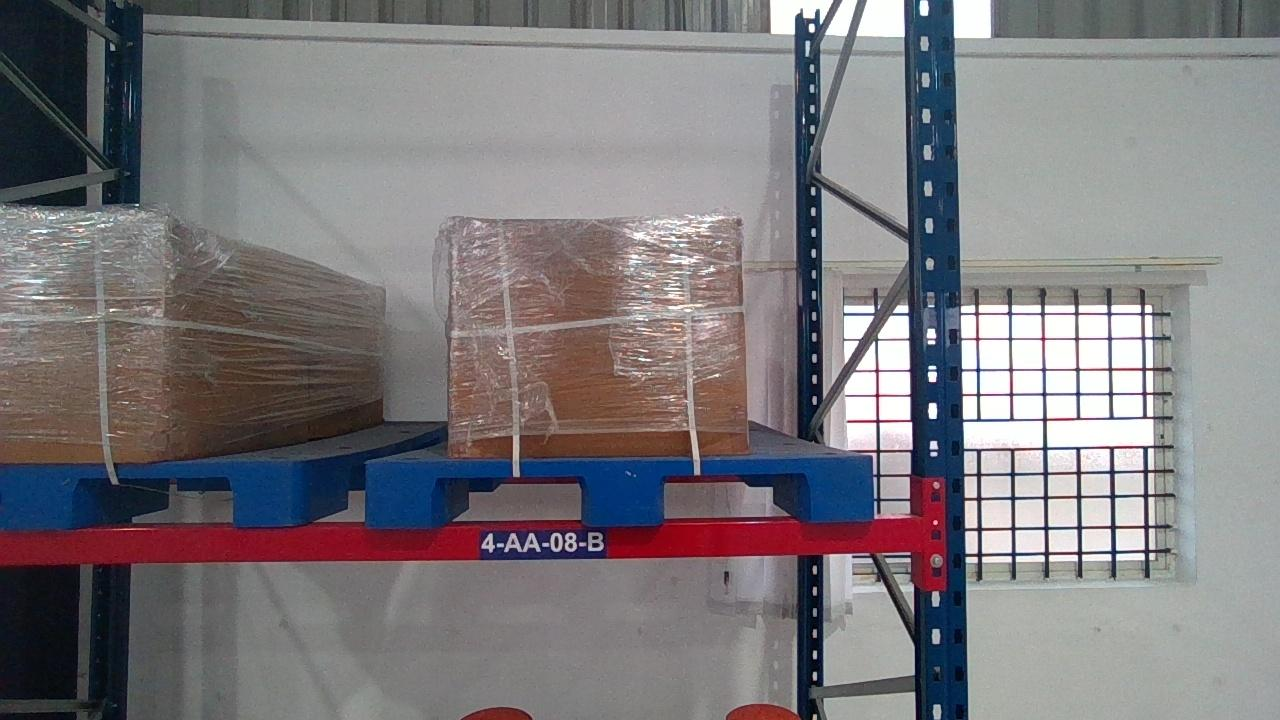h_rack: (4, 520, 924, 561)
small_pallet: (364, 456, 876, 522), (0, 461, 306, 524)
